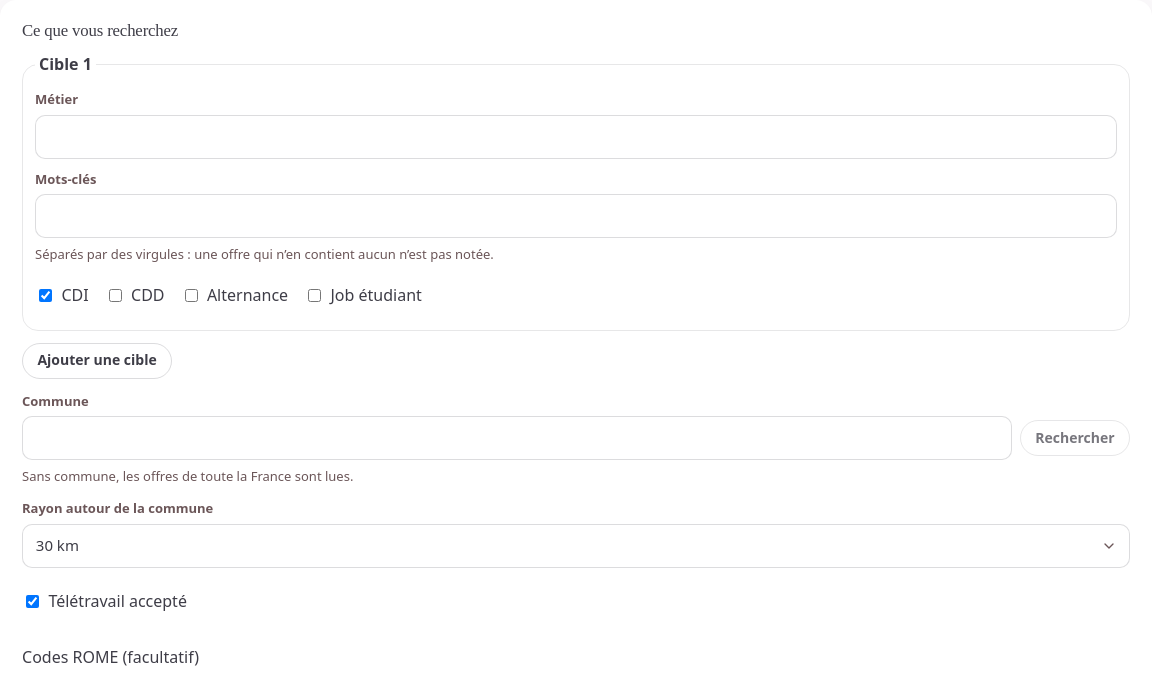
it: CriteriaCard › [EF-VEI-29] [EF-VEI-30] saves a target and a commune chosen among those the service knows
Type "Data analyst" into the field labelled "Métier". click: (576, 137)
box: [35,115,1117,159]
Type "data, sql," into the field labelled "Mots-clés". click: (576, 216)
box: [35,194,1117,238]
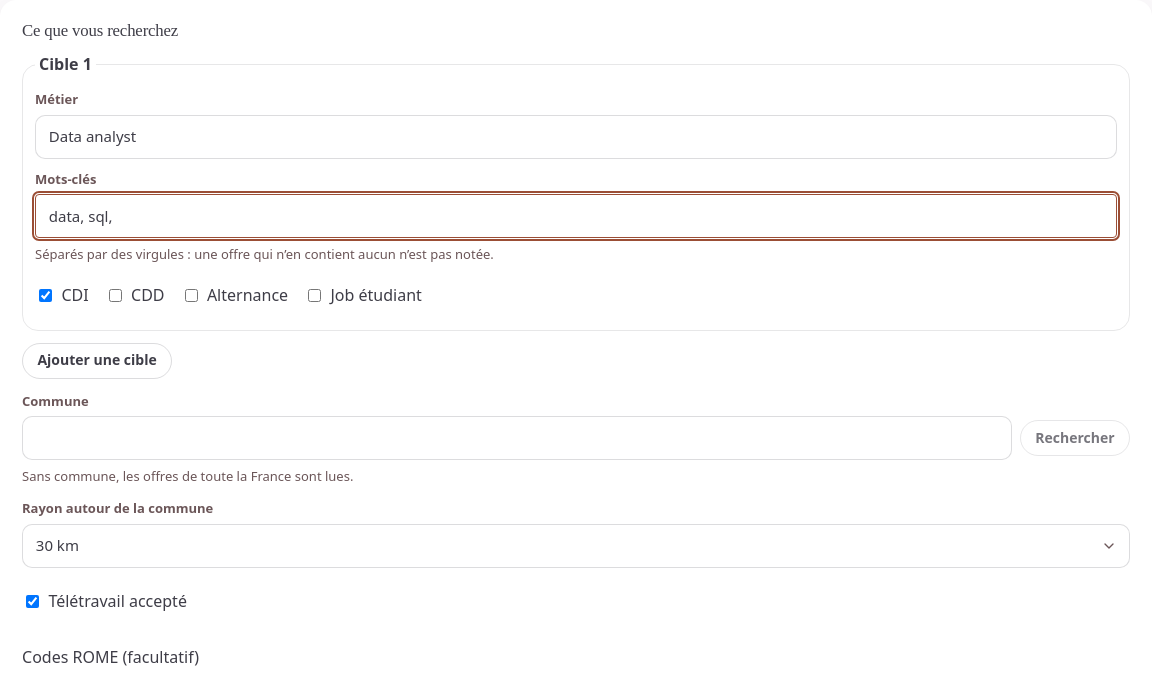
Click the checkbox labelled "Alternance". click: (191, 296)
box: [184,289,198,302]
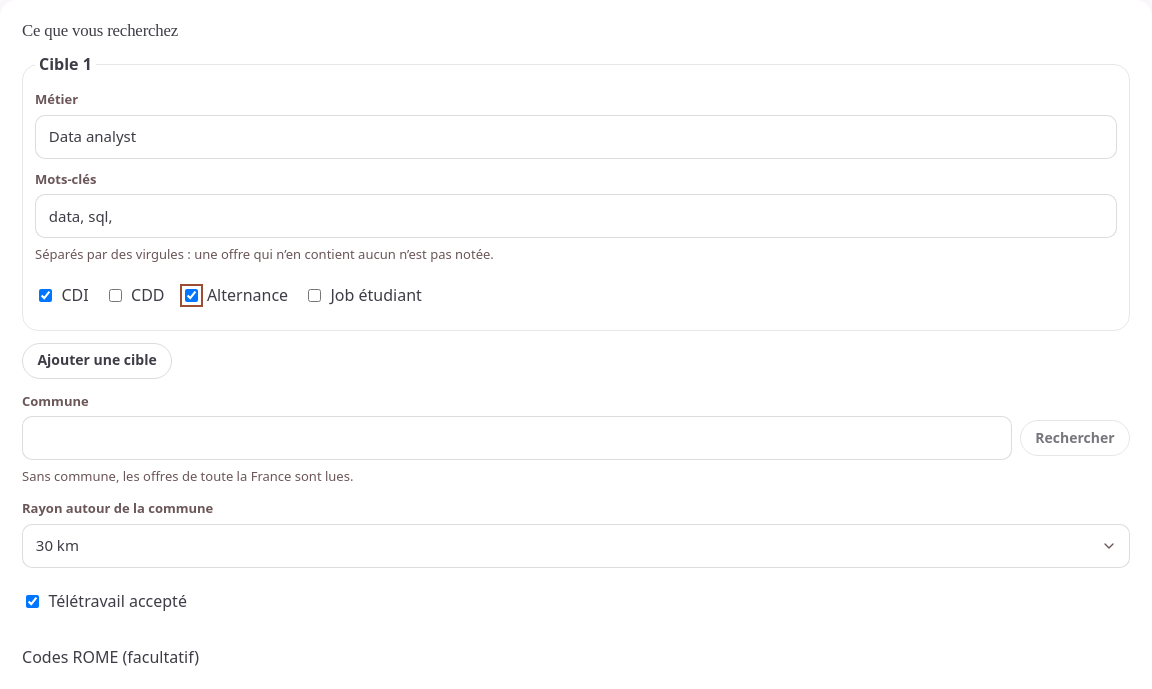
Type "Nanterre" into the field labelled "Commune". click: (517, 438)
box: [22,416,1012,460]
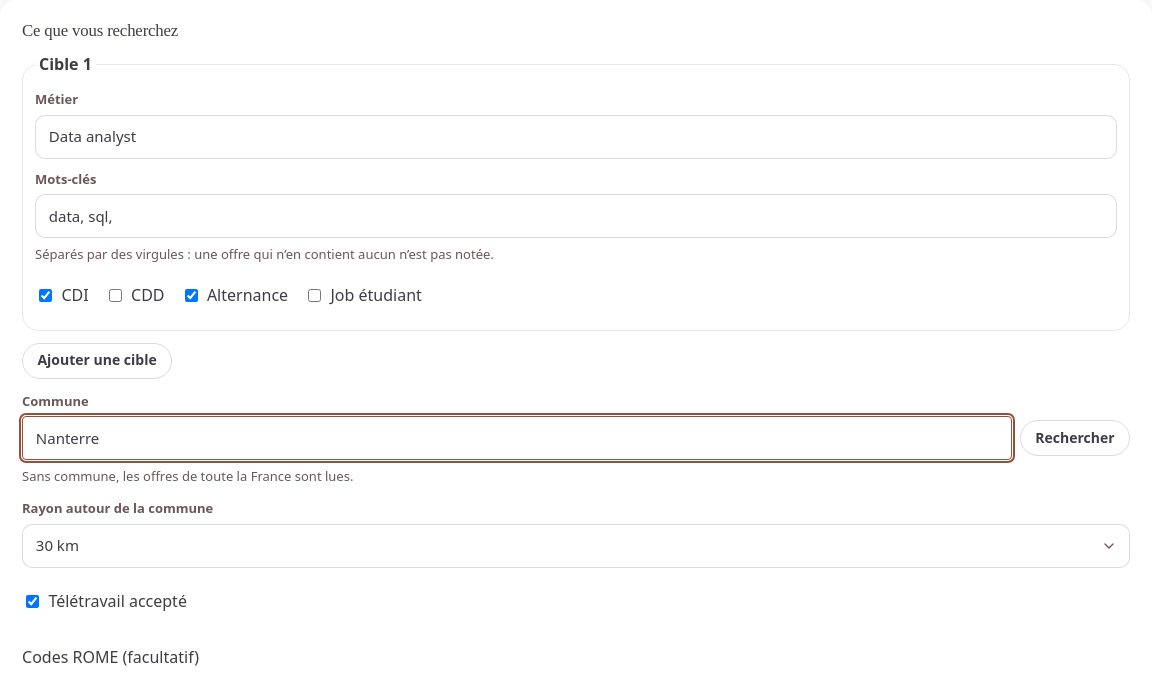
Click the button "Rechercher". click: (1075, 438)
box: [1020,420,1130,456]
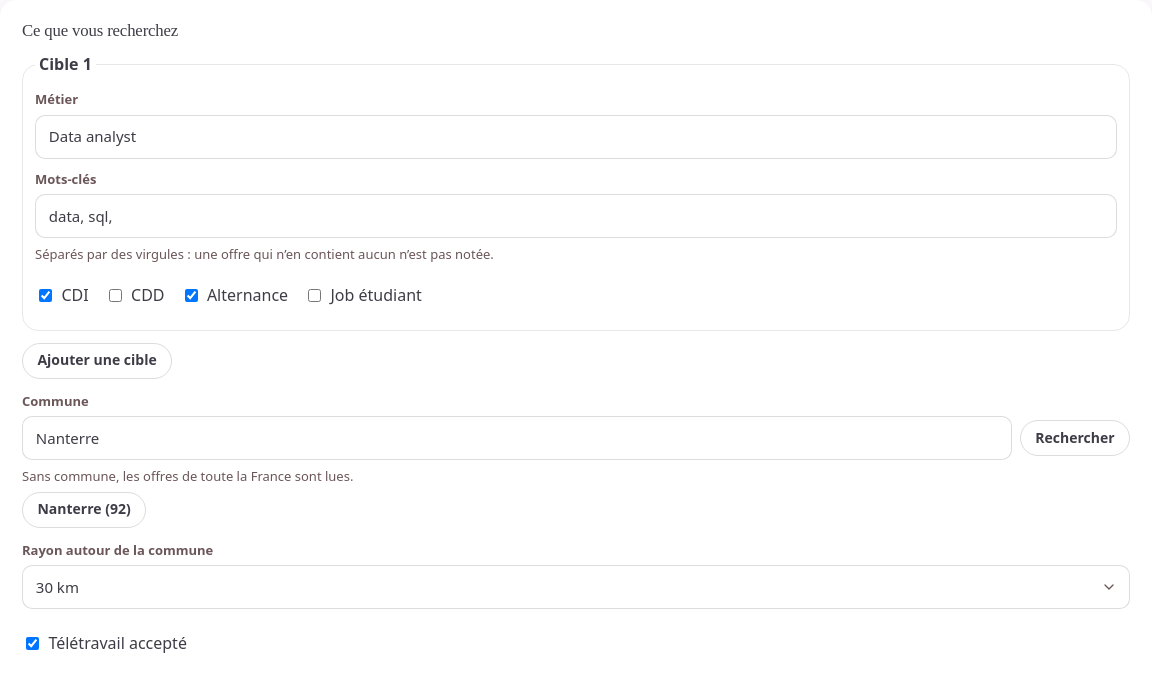
Click the button "Nanterre (92)". click: (84, 510)
box: [22,492,146,528]
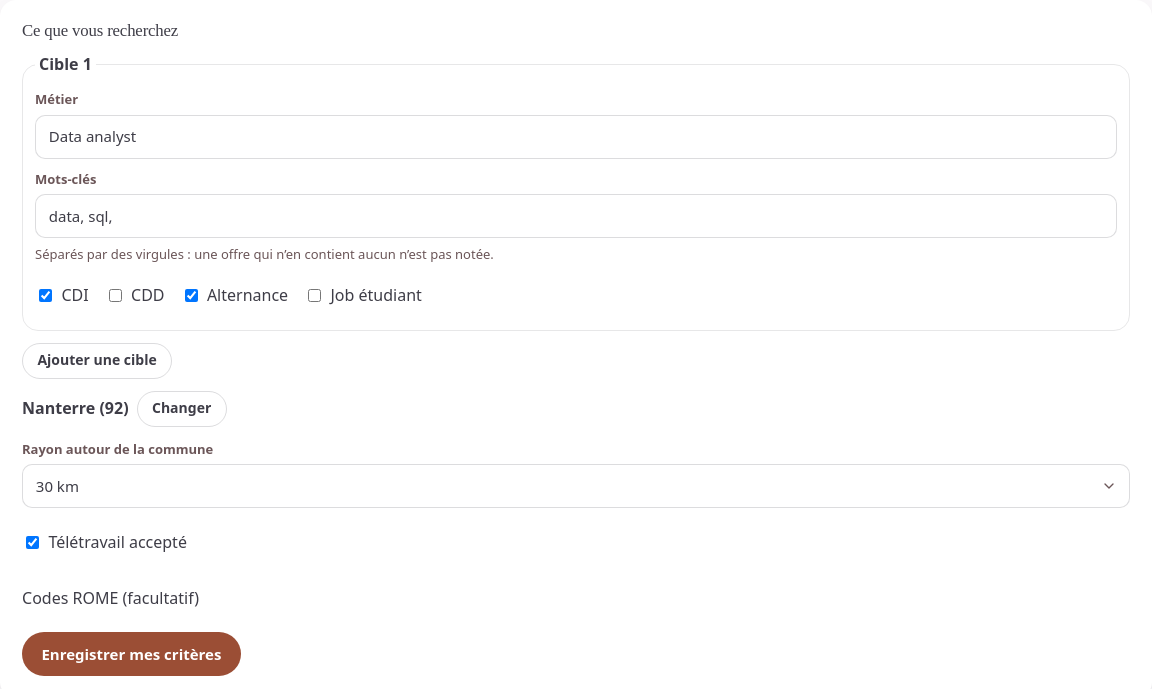
Click the button "Enregistrer mes critères". click: (131, 654)
box: [22,632,241,676]
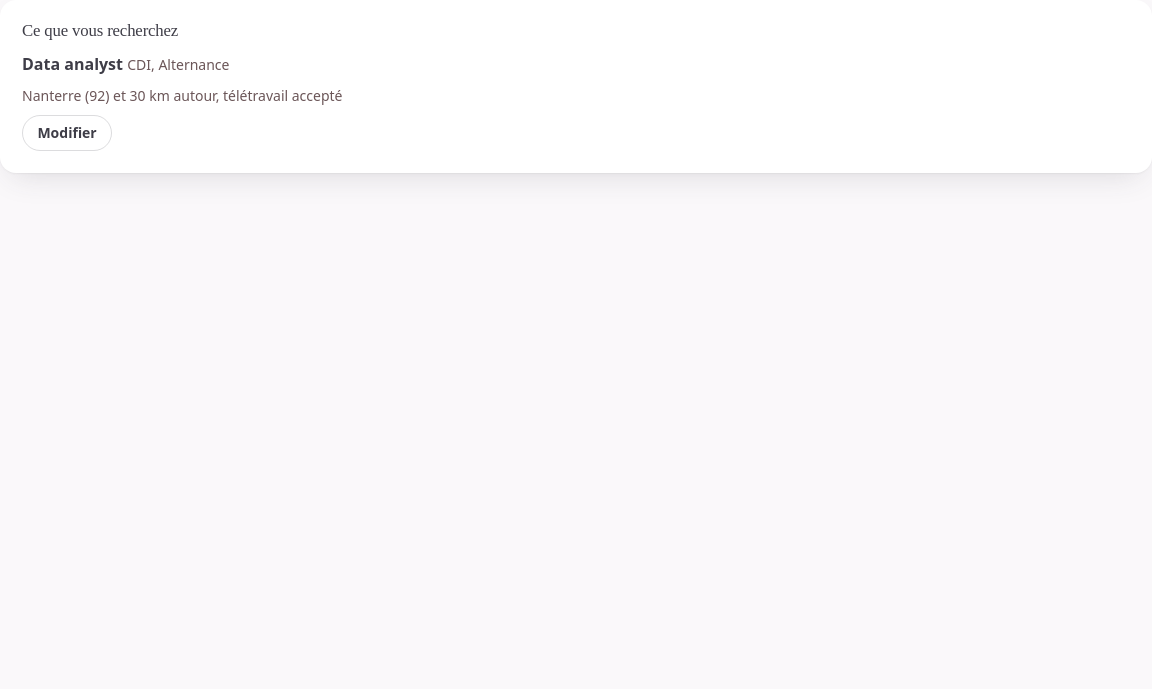
Result: the text "Nanterre (92) et 30 km autour, télétravail accepté" is shown at [22,85,342,107]
